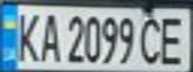0: (81, 11, 103, 64)
2: (60, 10, 84, 64)
9: (115, 12, 139, 65), (100, 12, 121, 64)
A: (36, 9, 63, 63)
C: (136, 12, 166, 65)
E: (154, 11, 190, 66)
K: (9, 8, 42, 63)
